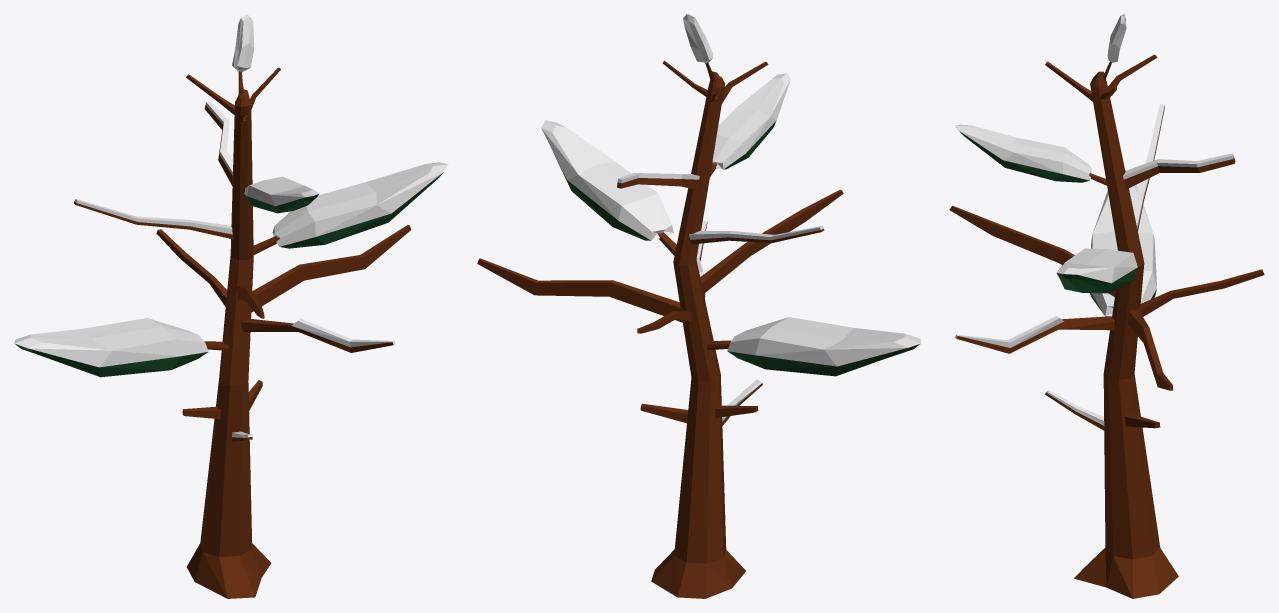
File: WinterTree5.glb
3 views of the same model, side by side, from view 1: azimuth 30°, elevation 25°; view 2: azimuth 150°, elevation 25°; view 3: azimuth 270°, elevation 25° (orthographic).
Parts seen in each view (by area): view 1: Tree_Winter_013; view 2: Tree_Winter_013; view 3: Tree_Winter_013.
Boxes of the visible parts, x1,y1,x2,y2 form: Tree_Winter_013: [14, 14, 448, 598]; Tree_Winter_013: [477, 14, 920, 598]; Tree_Winter_013: [949, 14, 1264, 598].
Size of the model in its own units: 8 by 10.22 by 5.11.
Materials: 1 (1 with a texture image).
